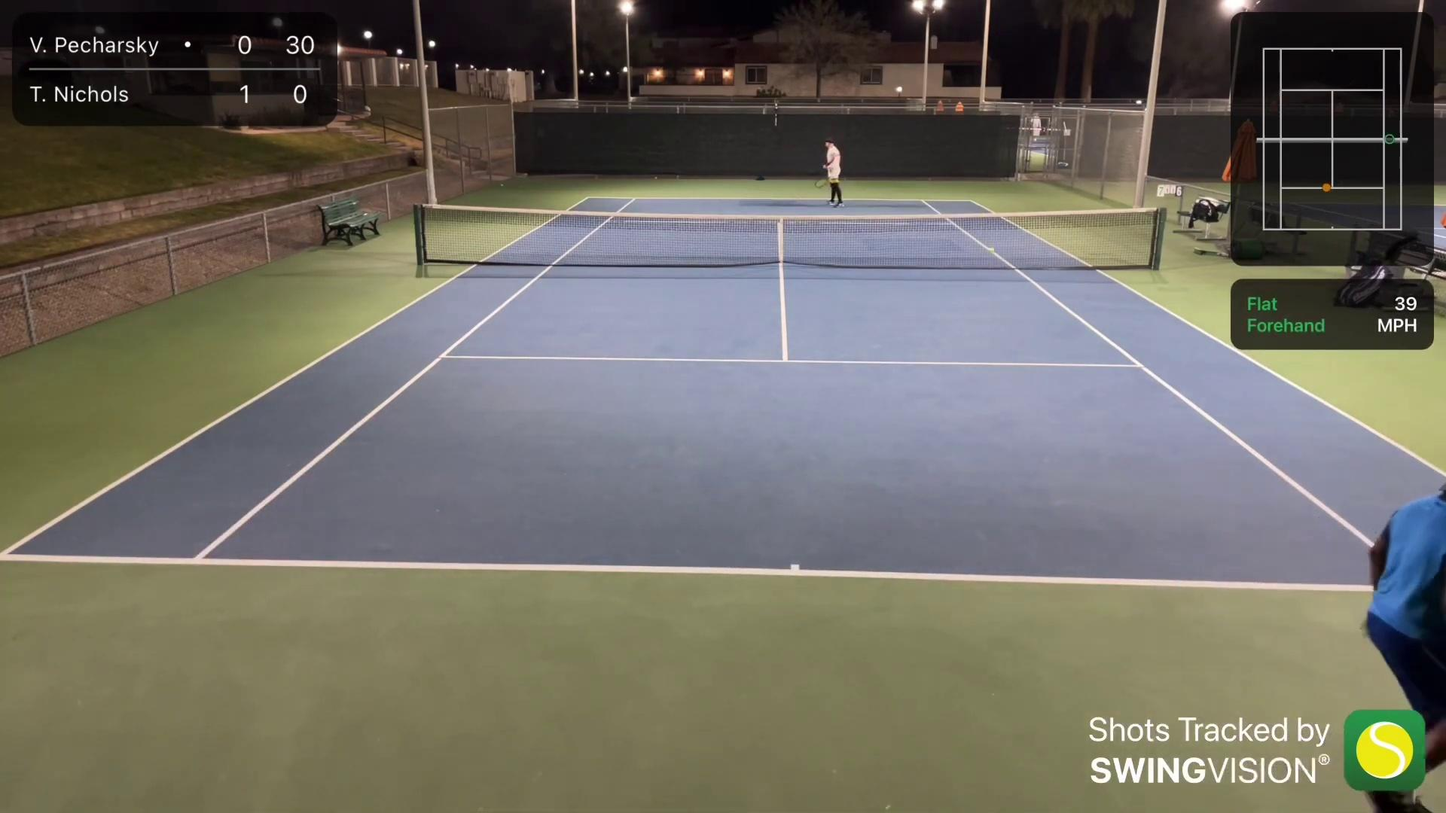ball: (988, 247, 995, 253)
